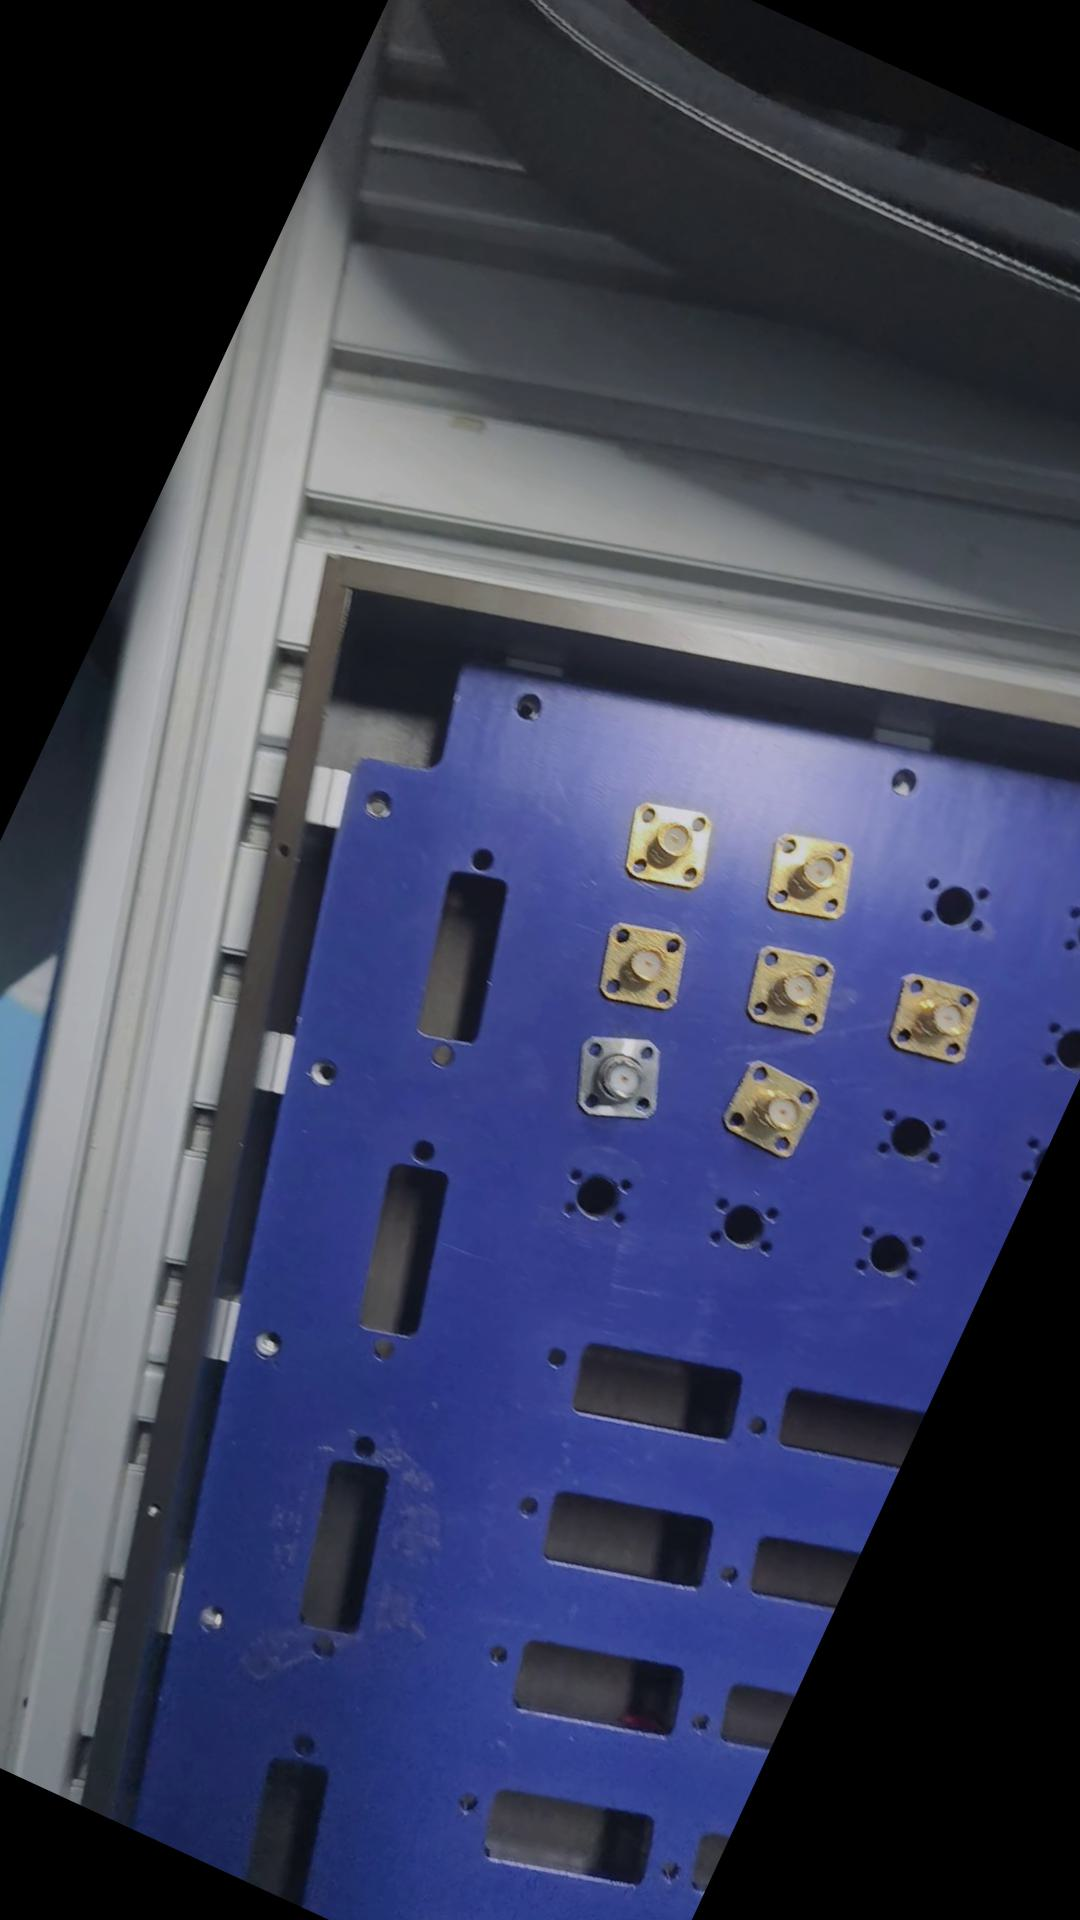SMA: (605, 785, 738, 910), (711, 1046, 835, 1174), (556, 1018, 680, 1141), (735, 930, 856, 1052), (582, 909, 704, 1029), (753, 818, 873, 938), (877, 963, 994, 1076)
